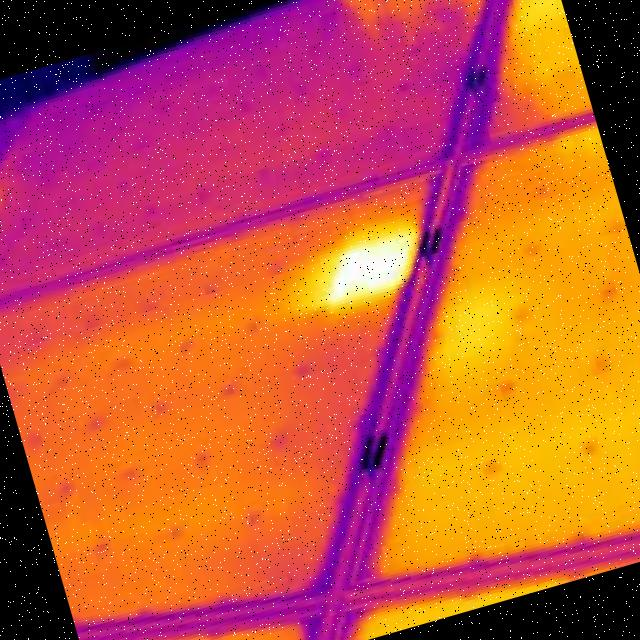Hotspot: (306, 204, 449, 324)
